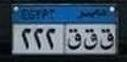2: (33, 26, 45, 50), (46, 26, 57, 51), (21, 27, 32, 50)
qaaf: (66, 27, 82, 51), (99, 28, 115, 51), (83, 28, 99, 51)
